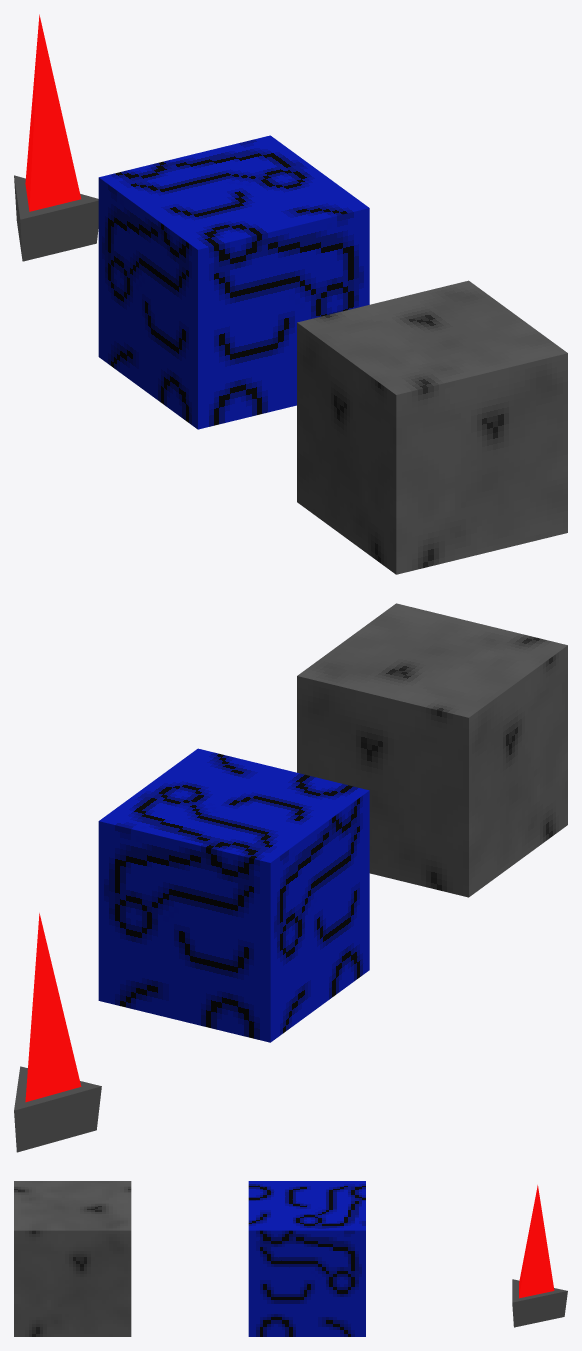
The model's file is tiles.glb.
3 views of the same model, one above another, from view 1: azimuth 30°, elevation 25°; view 2: azimuth 150°, elevation 25°; view 3: azimuth 270°, elevation 25° (orthographic). The views are drawn at different scales.
Visible parts, largest first — view 1: concrete, Cube.001, Cone; view 2: Cube.001, concrete, Cone; view 3: concrete, Cube.001, Cone.
Part boxes in pixels (x1,y1,x2,y2): concrete: (297, 280, 567, 574); Cube.001: (98, 135, 369, 429); Cone: (14, 14, 98, 261); Cube.001: (98, 748, 369, 1042); concrete: (297, 603, 567, 897); Cone: (14, 913, 101, 1152); concrete: (14, 1181, 131, 1336); Cube.001: (248, 1181, 365, 1336); Cone: (512, 1185, 567, 1327).
Bounding box in the file's own units: 1 × 1.24 × 4.72.
4 materials, 2 textured.
